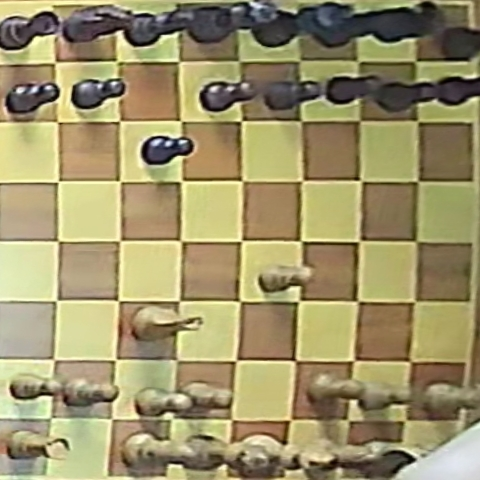black-bishop: (313, 8, 405, 46), (127, 7, 196, 46)
black-king: (249, 0, 356, 47), (249, 5, 303, 47)
black-knight: (369, 2, 438, 46), (63, 4, 137, 45)
black-pawn: (373, 77, 438, 113), (201, 80, 258, 113), (5, 82, 59, 116), (327, 75, 388, 105), (264, 80, 321, 111), (72, 78, 125, 110), (141, 135, 194, 165), (434, 74, 479, 106)
black-queen: (180, 1, 281, 44)
black-rook: (0, 11, 61, 51), (438, 25, 480, 60)
white-bishop: (123, 432, 196, 473), (296, 438, 381, 473)
white-king: (236, 433, 336, 478)
white-knight: (354, 440, 432, 476), (131, 305, 203, 341)
white-pawn: (412, 382, 479, 417), (134, 387, 194, 416), (355, 380, 407, 411), (64, 378, 120, 406), (259, 263, 313, 292), (10, 373, 65, 401), (181, 381, 233, 410), (308, 372, 347, 403)
white-queen: (178, 434, 273, 475)
white-rook: (5, 431, 70, 461)
